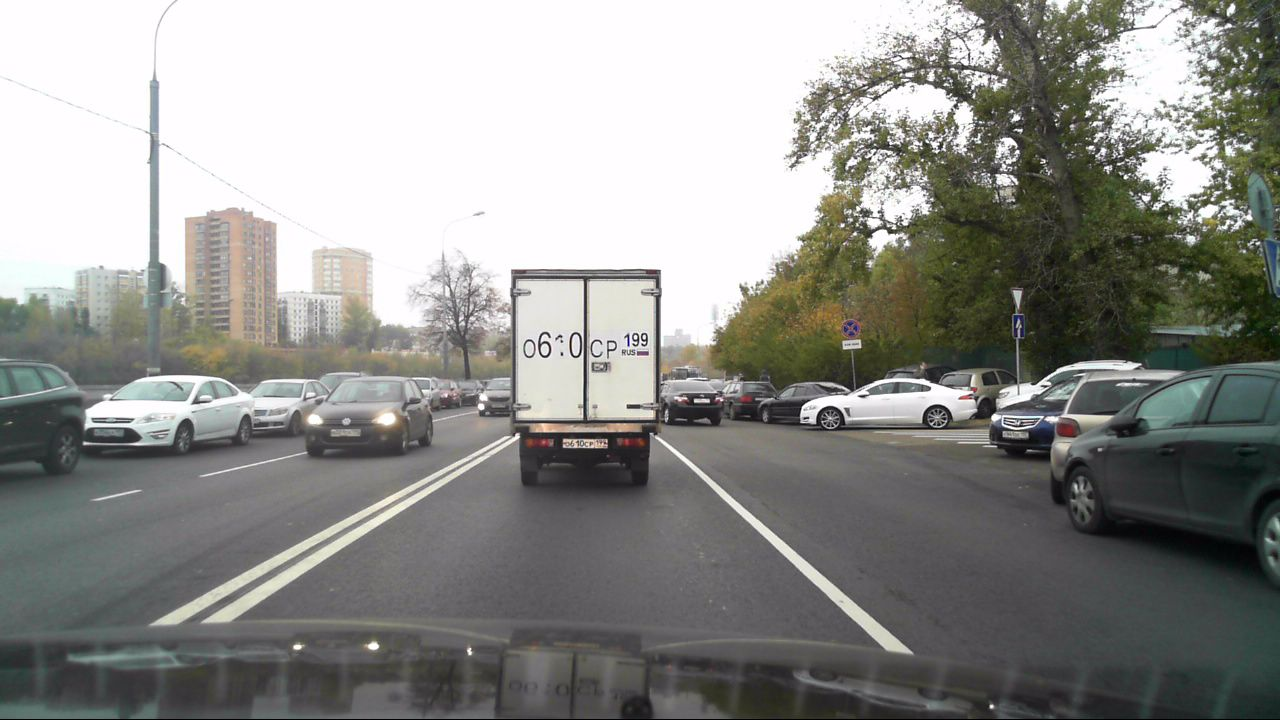No Parking: (841, 318, 862, 338)
